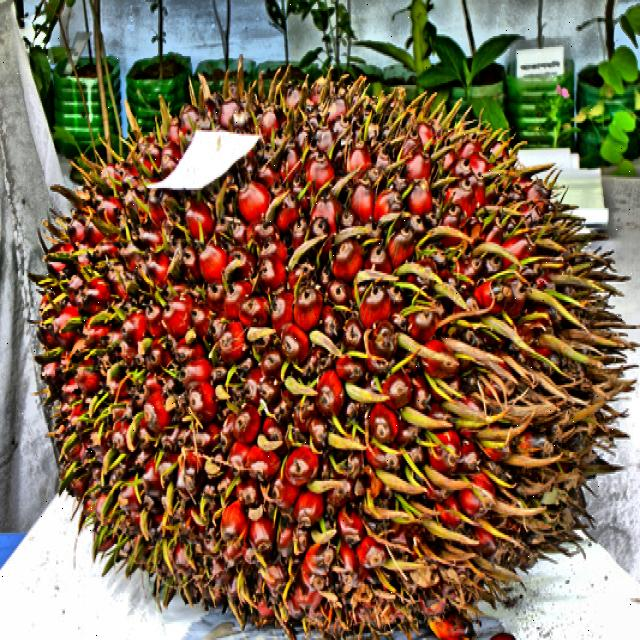FFB: (48, 75, 624, 634)
